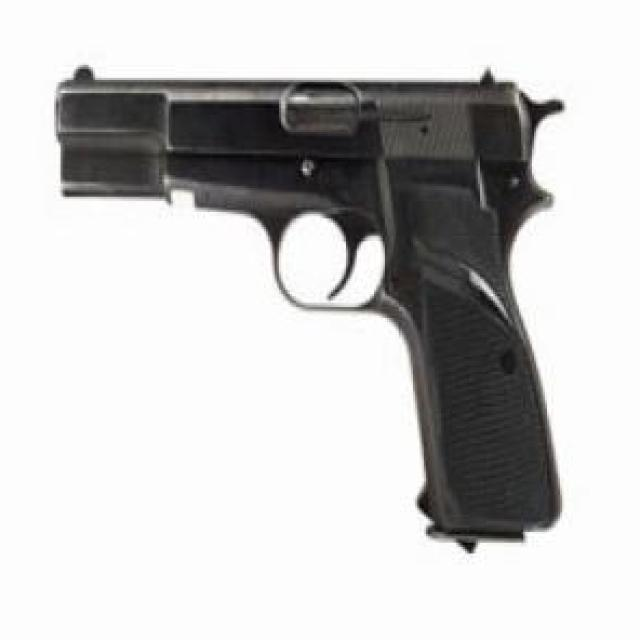pistol: (46, 54, 575, 542)
